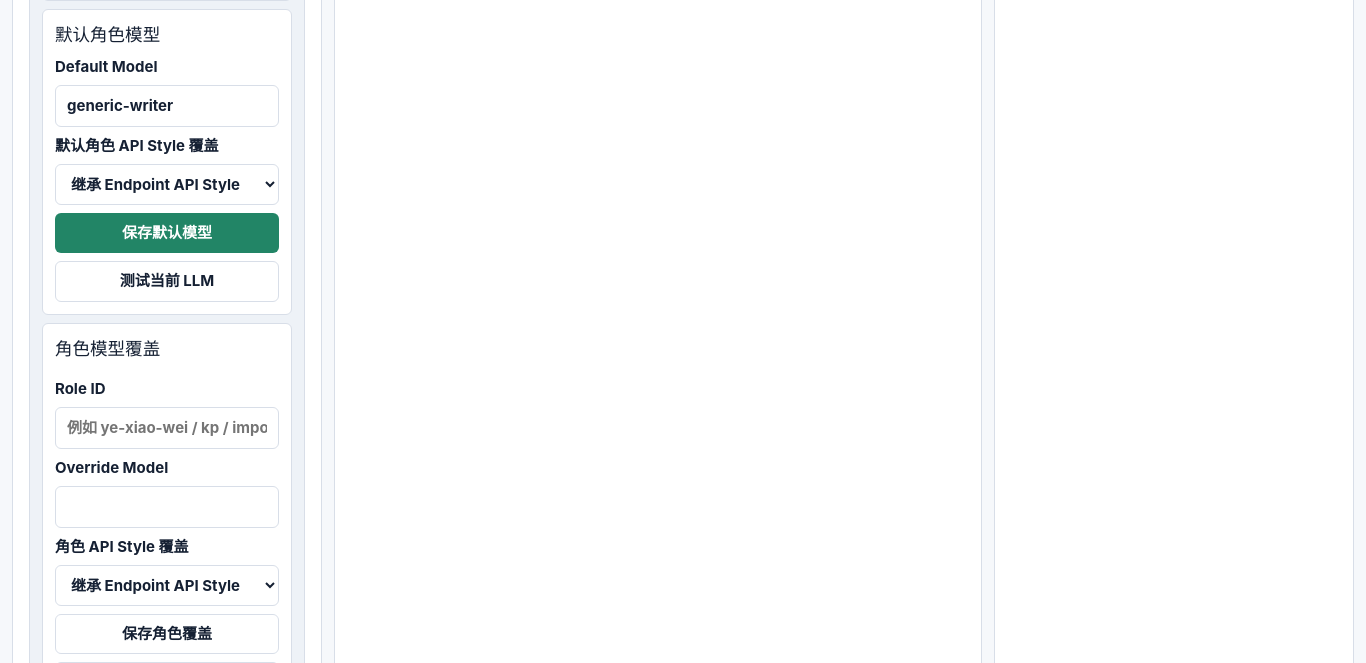
Test case: SettingsView › shows provider error kind and status when llm healthcheck fails
(page scrolled)
Click the button with test id "test-llm-button": [167, 281] box [55,261,279,302]
(page scrolled)
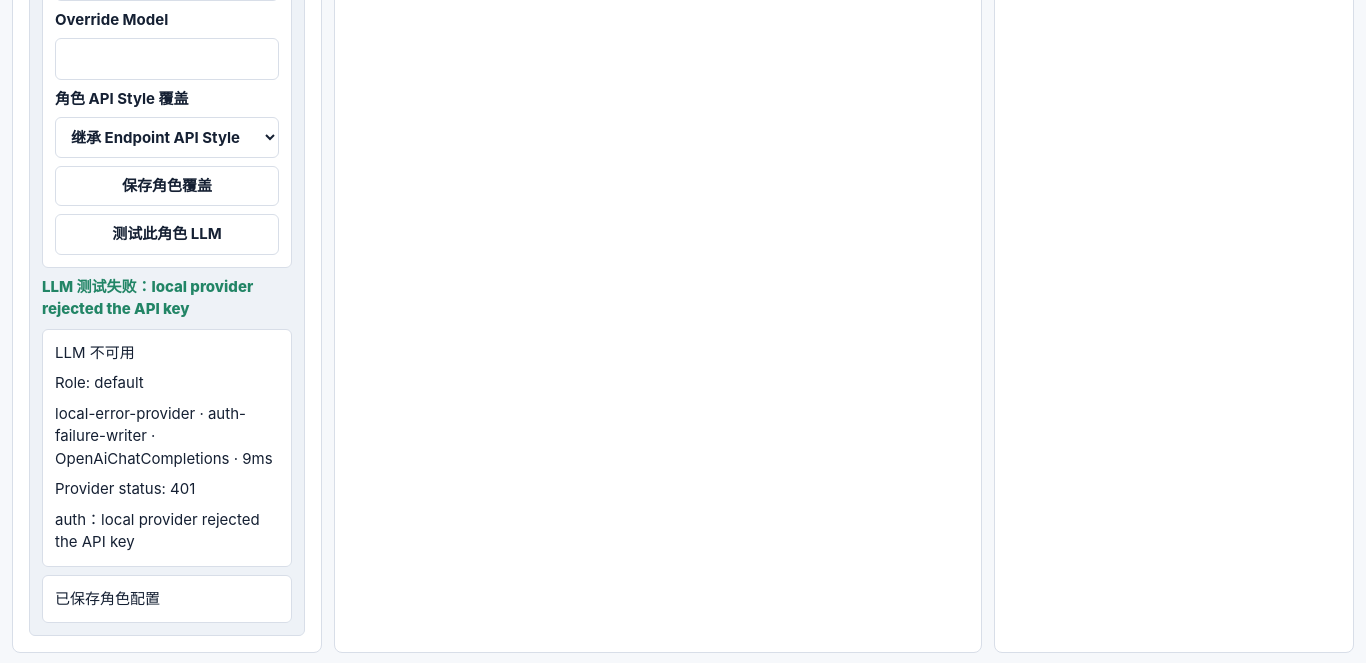
Now the message with test id "llm-config-status" shows "LLM 测试失败", box [42,276,253,318]
Now the element with test id "llm-health-result" shows "LLM 不可用", box [55,342,135,362]
Now the element with test id "llm-health-result" shows "Provider status: 401", box [55,479,195,498]
